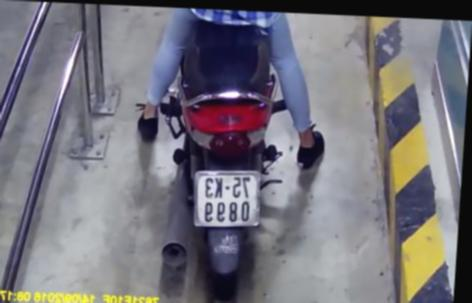License_Plate: (185, 164, 267, 232)
